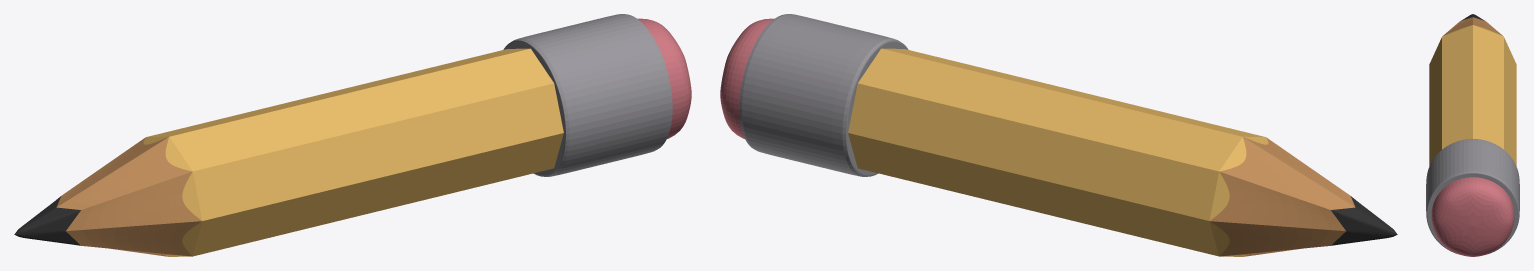
Rendered from Pencil.fbx.
The picture shows the model from 3 angles, left to right: view 1: azimuth 30°, elevation 25°; view 2: azimuth 150°, elevation 25°; view 3: azimuth 270°, elevation 25°; orthographic projection. The views are drawn at different scales.
Parts seen in each view (by area): view 1: Pencil; view 2: Pencil; view 3: Pencil.
Boxes of the visible parts, x1,y1,x2,y2 form: Pencil: [14, 14, 691, 256]; Pencil: [720, 14, 1397, 256]; Pencil: [1426, 14, 1519, 256].
Bounding box in the file's own units: 54.49 × 10.21 × 10.21.
